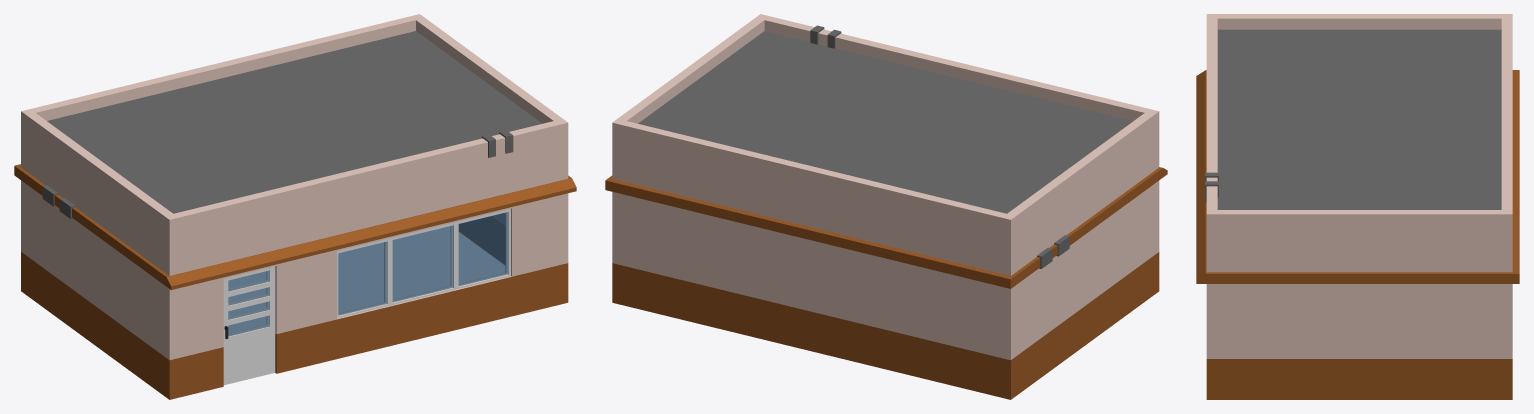
File: Building1.obj
3 views of the same model, side by side, from view 1: azimuth 30°, elevation 25°; view 2: azimuth 150°, elevation 25°; view 3: azimuth 270°, elevation 25° (orthographic). The views are drawn at different scales.
Visible parts, largest first — view 1: House, Roof, Windows, Door; view 2: House, Roof; view 3: House, Roof.
Part boxes in pixels (x1=…): House: x1=14, y1=14, x2=576, y2=399; Roof: x1=47, y1=31, x2=542, y2=213; Windows: x1=337, y1=208, x2=510, y2=318; Door: x1=223, y1=266, x2=275, y2=385; House: x1=605, y1=14, x2=1167, y2=399; Roof: x1=638, y1=31, x2=1133, y2=213; House: x1=1196, y1=14, x2=1519, y2=399; Roof: x1=1217, y1=29, x2=1501, y2=209.
Size of the model in its own units: 266 by 114 by 178.
